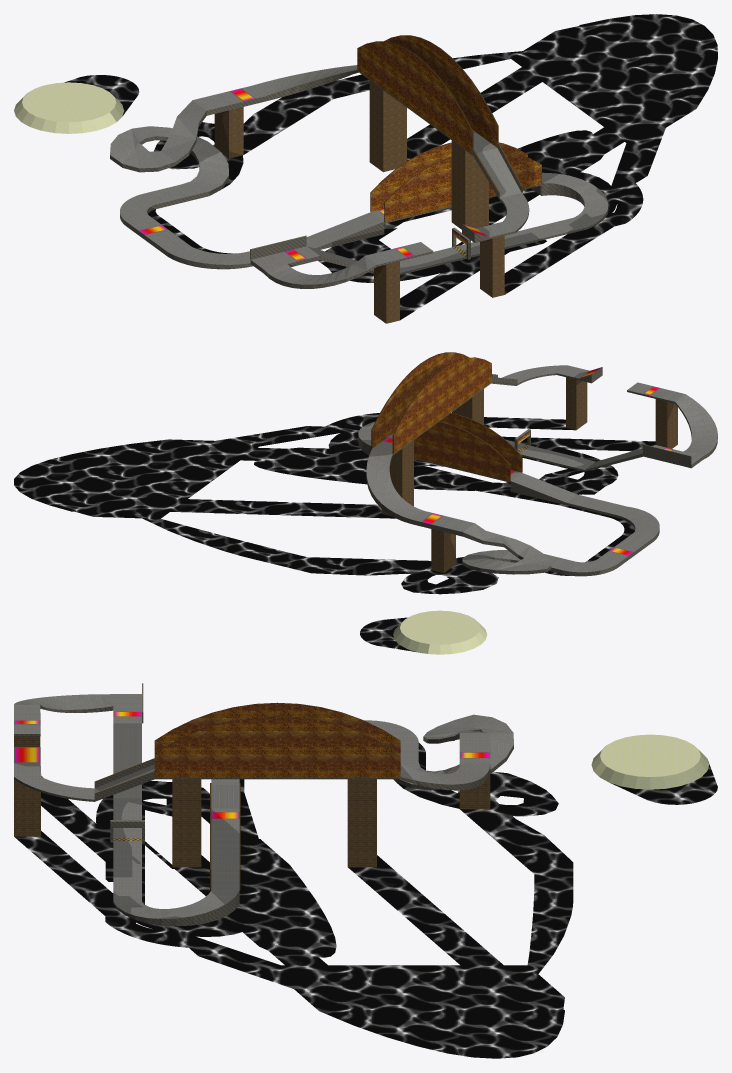
The picture shows the model from 3 angles, top to bottom: view 1: azimuth 30°, elevation 25°; view 2: azimuth 150°, elevation 25°; view 3: azimuth 270°, elevation 25°; orthographic projection. The views are drawn at different scales.
Parts seen in each view (by area): view 1: Sunset_Bridge_DX-SKP--water_sh.001, Sunset_Bridge_DX-SKP--road.001, Sunset_Bridge_DX-SKP--g_wall.001, Sunset_Bridge_DX-SKP--p_wall.001, Sunset_Bridge_DX-SKP--wall.001, Sunset_Bridge_DX-SKP--sand.001, Sunset_Bridge_DX-SKP--g_wall_sh.001, Sunset_Bridge_DX-SKP--road_sh.001, Sunset_Bridge_DX-SKP--wall_sh.001, Sunset_Bridge_DX-SKP--p_wall_sh.001, Sunset_Bridge_DX-SKP--b_wall.001, Sunset_Bridge_DX-SKP--boost.001; view 2: Sunset_Bridge_DX-SKP--water_sh.001, Sunset_Bridge_DX-SKP--road.001, Sunset_Bridge_DX-SKP--g_wall_sh.001, Sunset_Bridge_DX-SKP--g_wall.001, Sunset_Bridge_DX-SKP--wall_sh.001, Sunset_Bridge_DX-SKP--p_wall_sh.001, Sunset_Bridge_DX-SKP--sand.001, Sunset_Bridge_DX-SKP--p_wall.001, Sunset_Bridge_DX-SKP--road_sh.001, Sunset_Bridge_DX-SKP--wall.001; view 3: Sunset_Bridge_DX-SKP--water_sh.001, Sunset_Bridge_DX-SKP--g_wall_sh.001, Sunset_Bridge_DX-SKP--road.001, Sunset_Bridge_DX-SKP--p_wall_sh.001, Sunset_Bridge_DX-SKP--road_sh.001, Sunset_Bridge_DX-SKP--wall_sh.001, Sunset_Bridge_DX-SKP--sand.001, Sunset_Bridge_DX-SKP--sand_sh.001, Sunset_Bridge_DX-SKP--b_wall_sh.001.
Boxes of the visible parts, x1,y1,x2,y2 form: Sunset_Bridge_DX-SKP--water_sh.001: (64, 14, 717, 320); Sunset_Bridge_DX-SKP--road.001: (110, 65, 608, 284); Sunset_Bridge_DX-SKP--g_wall.001: (357, 35, 541, 221); Sunset_Bridge_DX-SKP--p_wall.001: (222, 80, 504, 323); Sunset_Bridge_DX-SKP--wall.001: (110, 70, 584, 288); Sunset_Bridge_DX-SKP--sand.001: (14, 82, 116, 133); Sunset_Bridge_DX-SKP--g_wall_sh.001: (387, 39, 534, 196); Sunset_Bridge_DX-SKP--road_sh.001: (192, 72, 608, 272); Sunset_Bridge_DX-SKP--wall_sh.001: (139, 111, 608, 274); Sunset_Bridge_DX-SKP--p_wall_sh.001: (214, 110, 491, 277); Sunset_Bridge_DX-SKP--b_wall.001: (370, 126, 522, 221); Sunset_Bridge_DX-SKP--boost.001: (140, 89, 413, 260); Sunset_Bridge_DX-SKP--water_sh.001: (14, 413, 655, 653); Sunset_Bridge_DX-SKP--road.001: (358, 365, 717, 572); Sunset_Bridge_DX-SKP--g_wall_sh.001: (372, 364, 521, 481); Sunset_Bridge_DX-SKP--g_wall.001: (372, 352, 491, 453); Sunset_Bridge_DX-SKP--wall_sh.001: (358, 373, 691, 576); Sunset_Bridge_DX-SKP--p_wall_sh.001: (381, 377, 674, 572); Sunset_Bridge_DX-SKP--sand.001: (400, 610, 487, 654); Sunset_Bridge_DX-SKP--p_wall.001: (402, 381, 677, 554); Sunset_Bridge_DX-SKP--road_sh.001: (362, 371, 653, 559); Sunset_Bridge_DX-SKP--wall.001: (389, 367, 717, 574); Sunset_Bridge_DX-SKP--water_sh.001: (14, 742, 717, 1058); Sunset_Bridge_DX-SKP--g_wall_sh.001: (154, 703, 400, 777); Sunset_Bridge_DX-SKP--road.001: (14, 694, 513, 918); Sunset_Bridge_DX-SKP--p_wall_sh.001: (14, 736, 490, 867); Sunset_Bridge_DX-SKP--road_sh.001: (14, 707, 459, 918); Sunset_Bridge_DX-SKP--wall_sh.001: (14, 705, 513, 926); Sunset_Bridge_DX-SKP--sand.001: (591, 734, 705, 776); Sunset_Bridge_DX-SKP--sand_sh.001: (599, 750, 709, 789); Sunset_Bridge_DX-SKP--b_wall_sh.001: (154, 702, 400, 890).
Size of what is drawn, in the model's own units: 85363 by 18071 by 76165.
20 materials, 20 textured.
